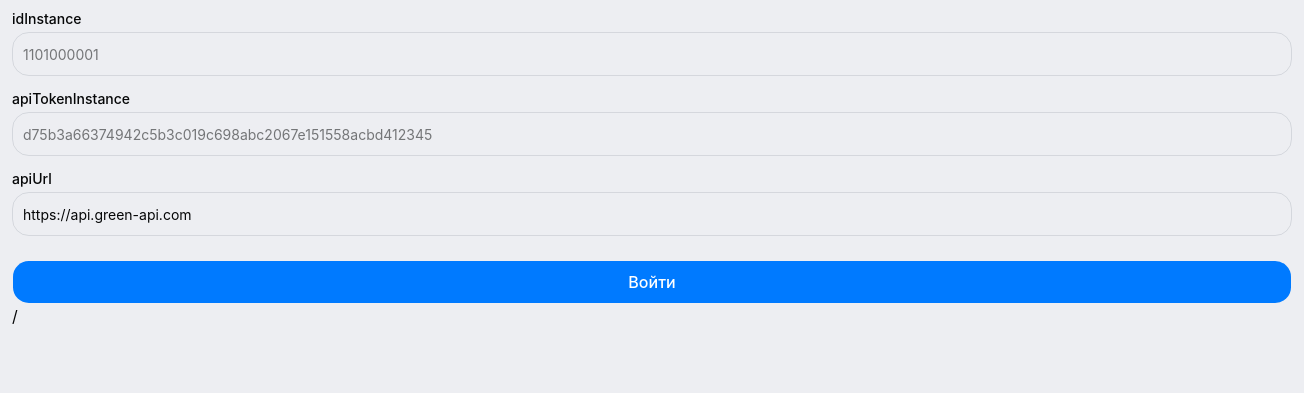
Scenario: LoginForm › shows validation errors for empty form
The image size is (1304, 393).
Click the button "Войти". click: [652, 282]
box: [12, 260, 1292, 304]
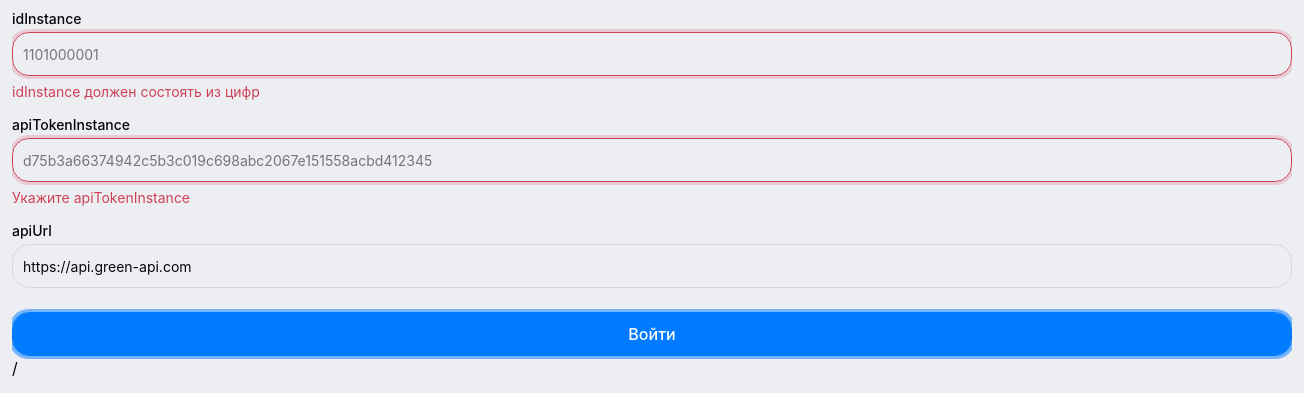
Expected: the text "idInstance должен состоять из цифр" is shown, [12, 83, 260, 100]
Expected: the text "Укажите apiTokenInstance" is shown, [12, 189, 190, 206]
